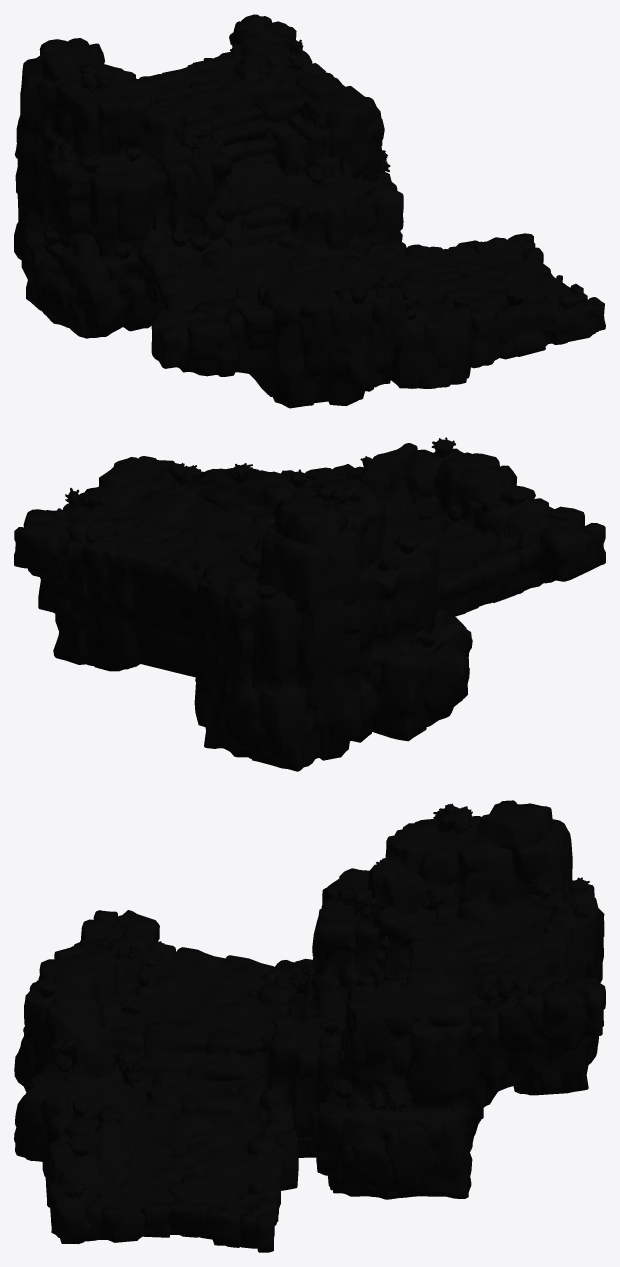
Rendered from RockTerrainSeamFiller.glb.
3 views of the same model, one above another, from view 1: azimuth 30°, elevation 25°; view 2: azimuth 150°, elevation 25°; view 3: azimuth 270°, elevation 25° (orthographic). The views are drawn at different scales.
Visible parts, largest first — view 1: tripo_node_8e61a53d-c940-46a5-93e4-ef0c383eb5a2; view 2: tripo_node_8e61a53d-c940-46a5-93e4-ef0c383eb5a2; view 3: tripo_node_8e61a53d-c940-46a5-93e4-ef0c383eb5a2.
Part boxes in pixels (x1=…): tripo_node_8e61a53d-c940-46a5-93e4-ef0c383eb5a2: x1=14, y1=14, x2=605, y2=408; tripo_node_8e61a53d-c940-46a5-93e4-ef0c383eb5a2: x1=14, y1=437, x2=605, y2=771; tripo_node_8e61a53d-c940-46a5-93e4-ef0c383eb5a2: x1=14, y1=800, x2=605, y2=1252.
Size of the model in its own units: 0.962 by 0.4529 by 0.9799.
1 material, 1 textured.
